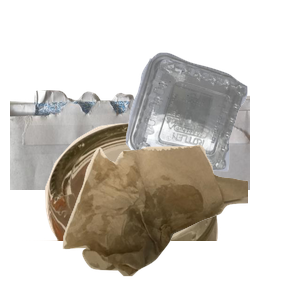glass: (22, 120, 233, 300)
paper: (10, 84, 250, 264)
plastic: (123, 50, 300, 214)
trash: (60, 142, 300, 300)
